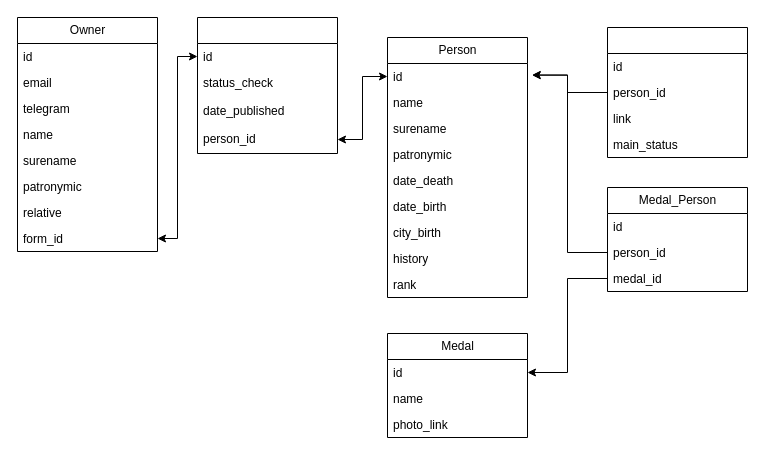
Image size: 765x458. Some labels were removed from this diagram. The shapes that lost their labels are listed below. From the top down, each one's box as (x1, y1, x2, y2) in pixels, then its label:
(196, 16, 338, 154): form
(606, 26, 748, 158): Person_photo
